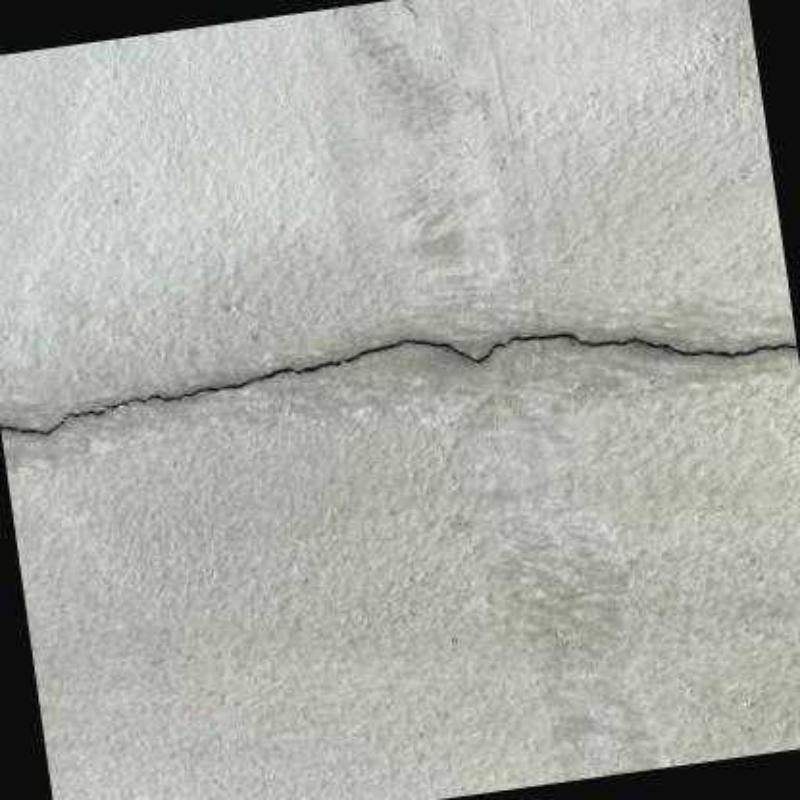pothole: (1, 333, 797, 435)
